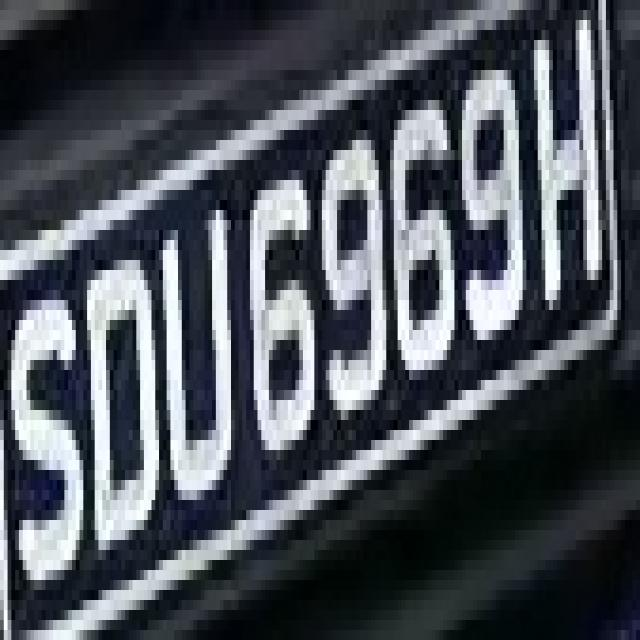6: (235, 130, 322, 500), (382, 80, 470, 380)
9: (443, 30, 534, 390), (307, 140, 405, 470)
D: (83, 230, 163, 570)
H: (523, 0, 617, 350)
S: (15, 260, 83, 640)
U: (159, 170, 235, 520)
